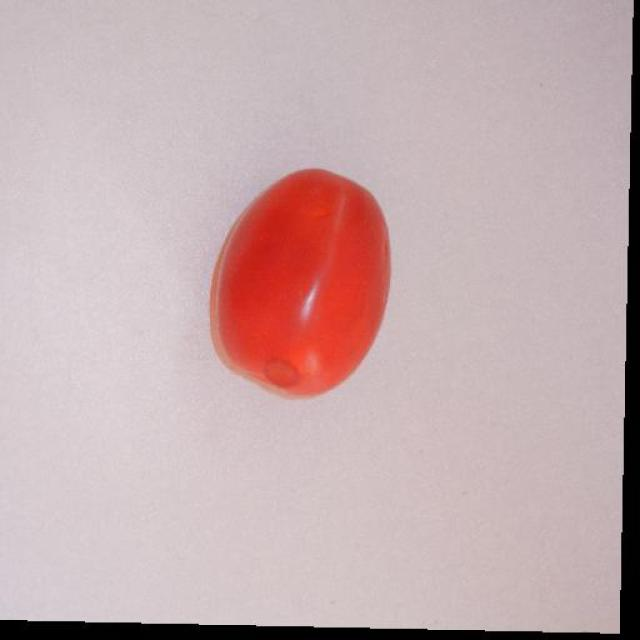Stale_tomato: (222, 146, 400, 406)
